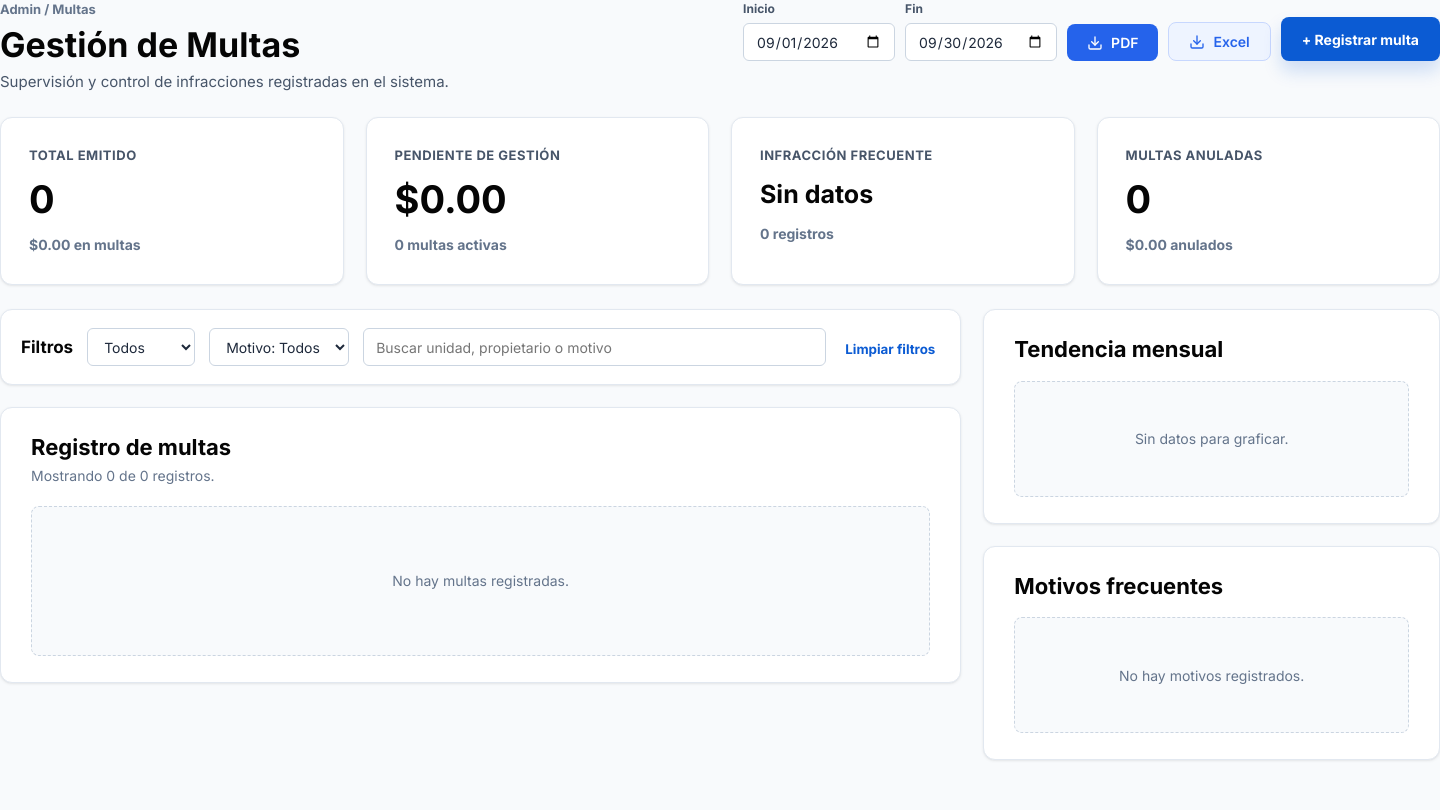
Test: AdminFinesPage › auto-carga el propietario al seleccionar departamento con propietario
Note: Abrir formulario
Click the button "+ Registrar multa" at [1360, 39], box [1281,17,1439,61]
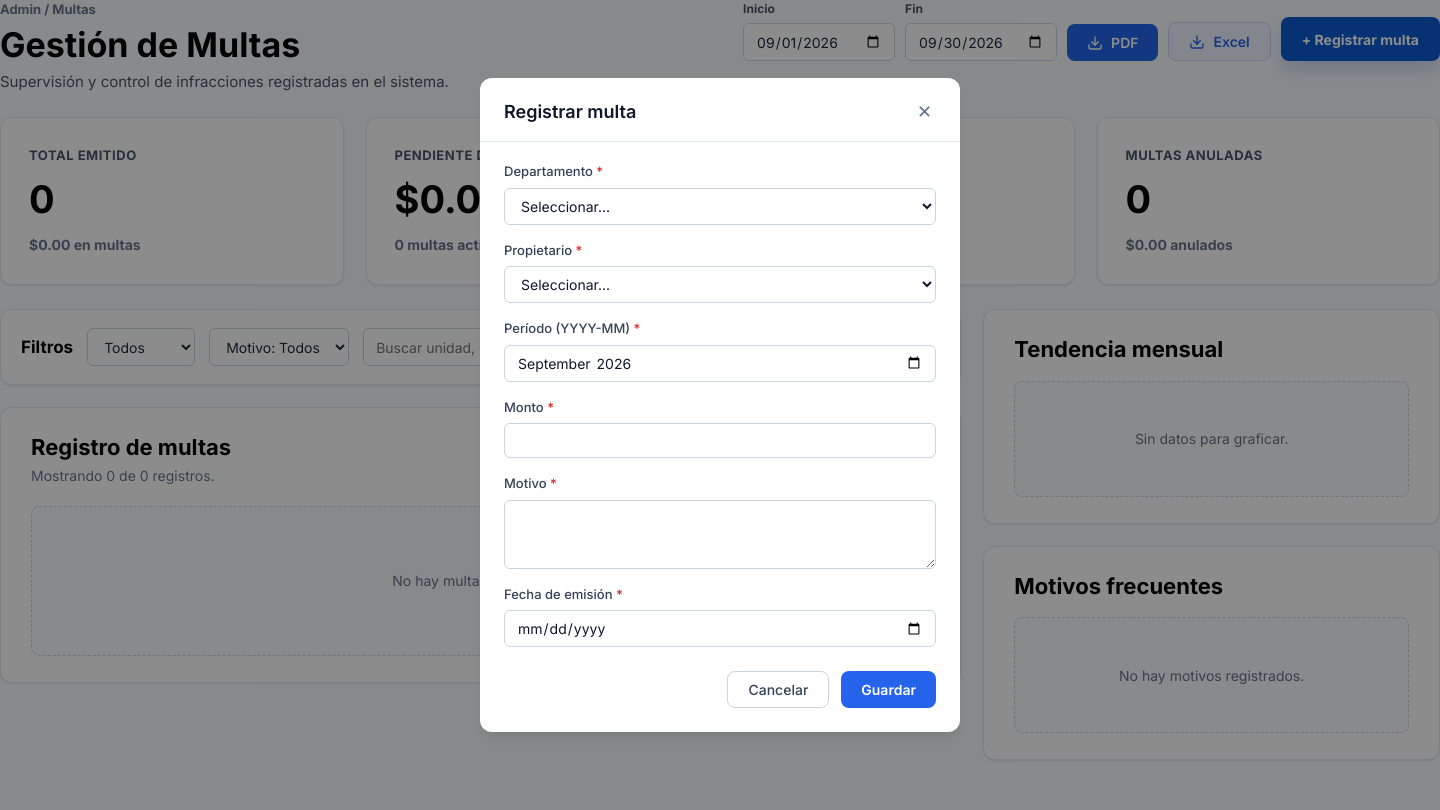
Result: the dropdown labelled "Departamento *" is shown
Select "Depto 101" in the dropdown labelled "Departamento *" at [720, 206], box [504,188,936,224]
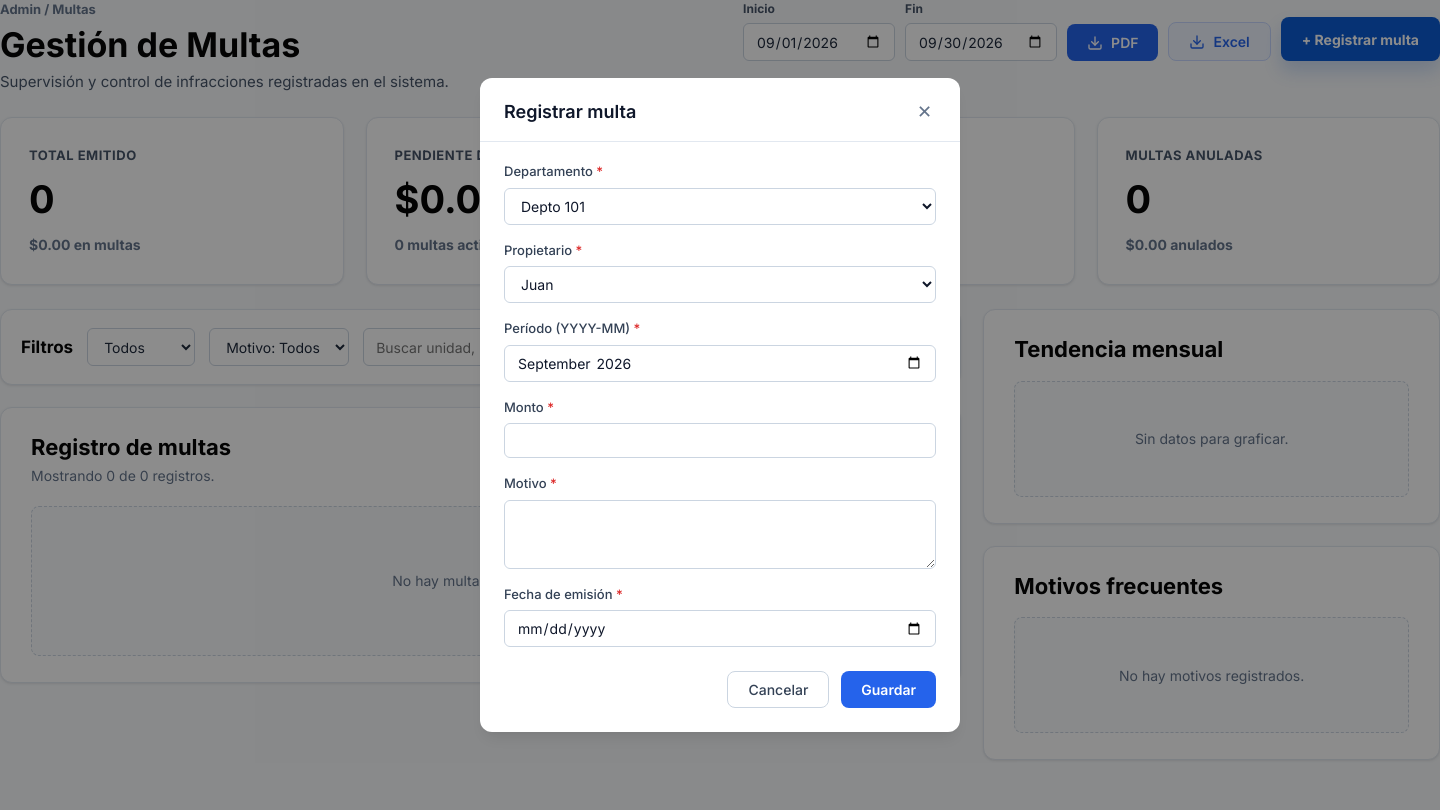
Result: the dropdown labelled "Propietario *" shows "Juan" at [504,266,936,303]
